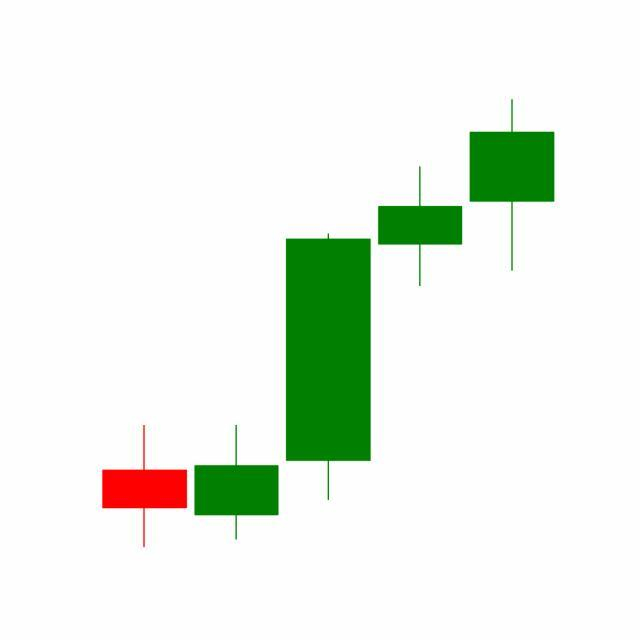Advance Block: (280, 99, 555, 505)
